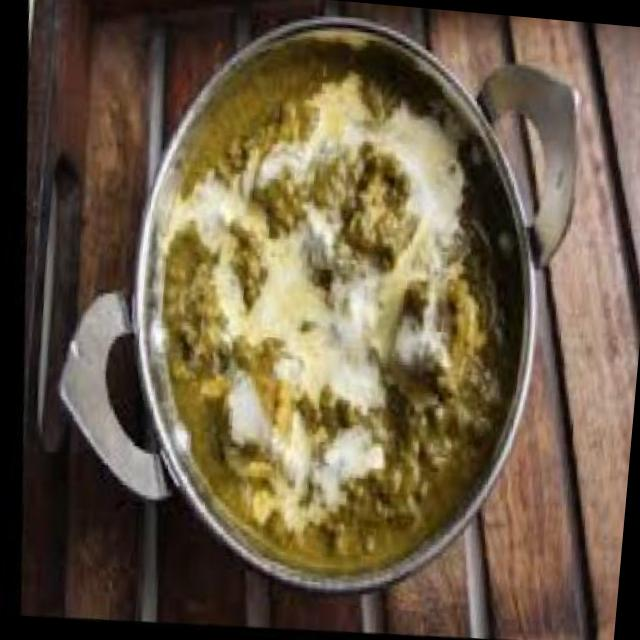palak_paneer: (115, 26, 544, 596)
